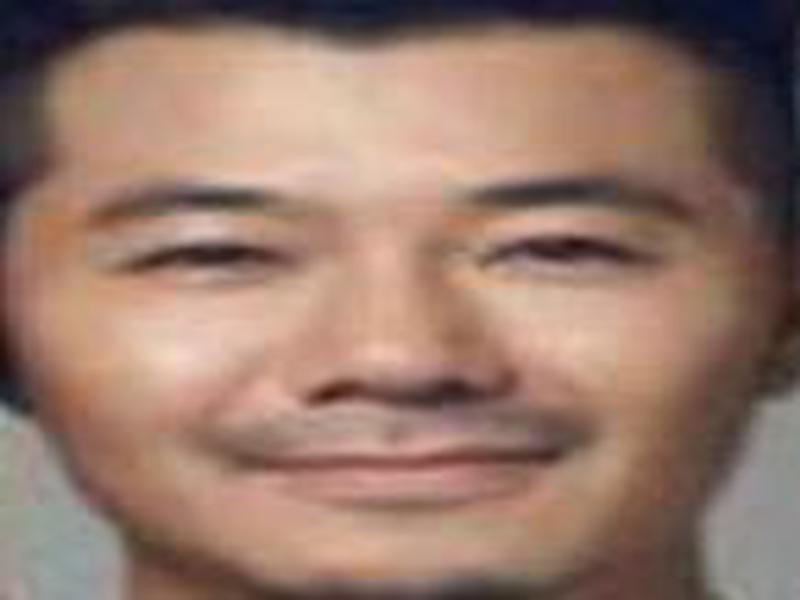without_mask: (31, 37, 758, 583)
